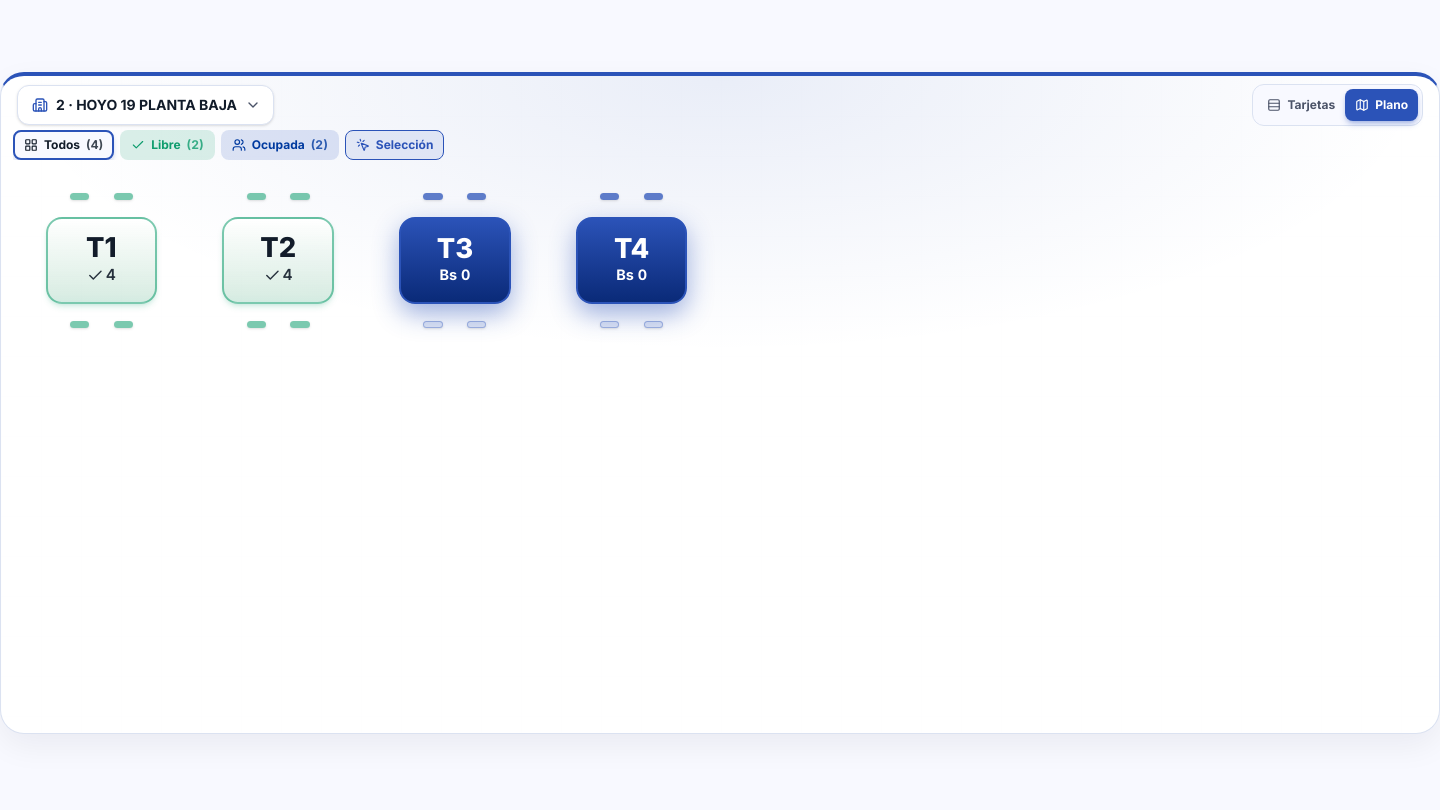
Scenario: PlanoMesas: filtros de estado › mantener apretada otra mesa cierra la información anterior y abre la nueva
Press the mouse on the button with aria-label "Mesa T3, Ocupada" at coordinates (455, 260), box [370,176,539,345]
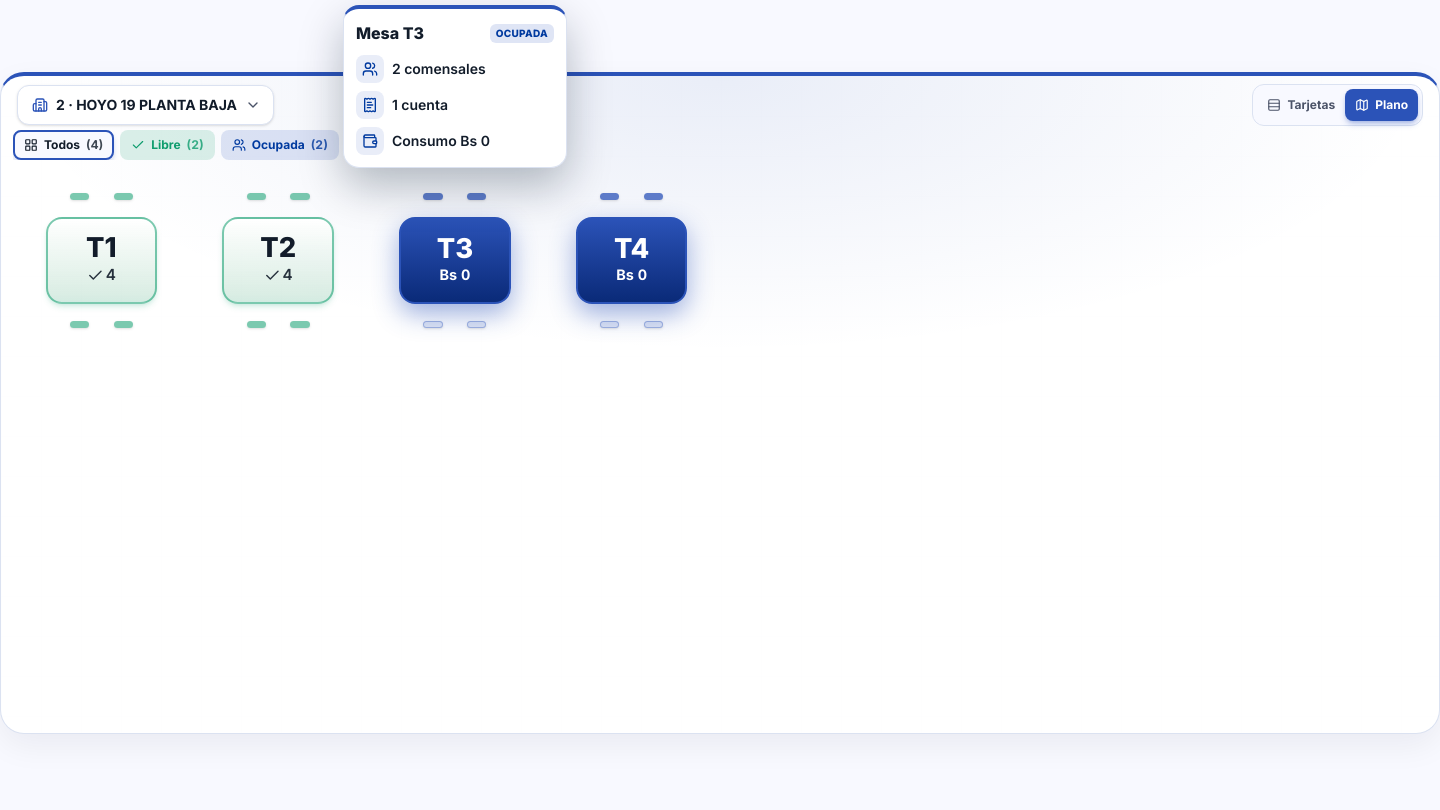
Expected: the tooltip shows "Mesa T3", [343,5,567,168]
Press the mouse on the button with aria-label "Mesa T4, Ocupada" at coordinates (632, 260), box [547,176,716,345]
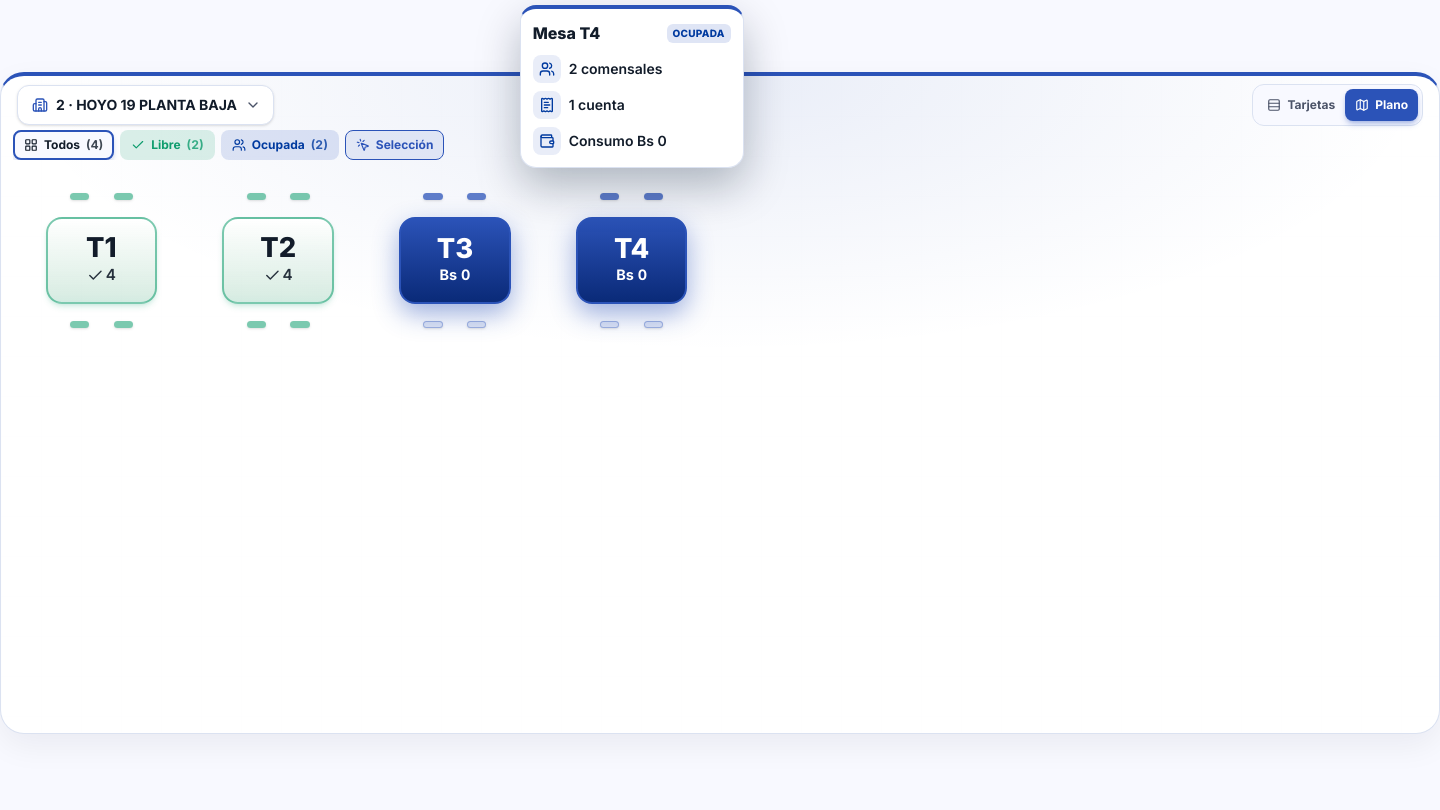
Expected: the number of tooltips is 1, [520,5,744,168]
Expected: the tooltip shows "Mesa T4", [520,5,744,168]
